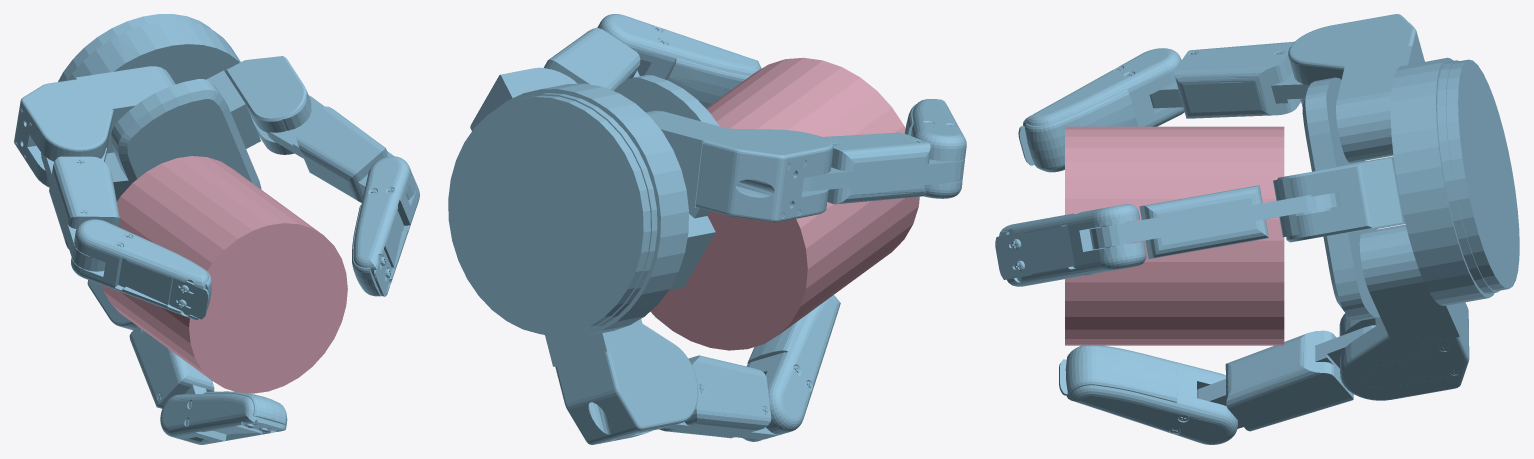
3 views of the same model, side by side, from view 1: azimuth 30°, elevation 25°; view 2: azimuth 150°, elevation 25°; view 3: azimuth 270°, elevation 25° (orthographic). The views are drawn at different scales.
Visible parts, largest first — view 1: world, cylinder_medium.stl; view 2: world, cylinder_medium.stl; view 3: world, cylinder_medium.stl.
Boxes of the visible parts, <box> form: world: <box>14,14,419,444</box>; cylinder_medium.stl: <box>101,156,347,393</box>; world: <box>448,14,966,444</box>; cylinder_medium.stl: <box>650,57,919,350</box>; world: <box>995,14,1519,444</box>; cylinder_medium.stl: <box>1065,126,1284,345</box>.
Bounding box in the file's own units: 0.1631 × 0.163 × 0.1914.
